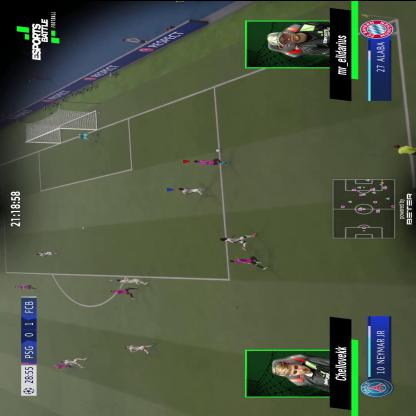ball: (215, 148, 221, 152)
